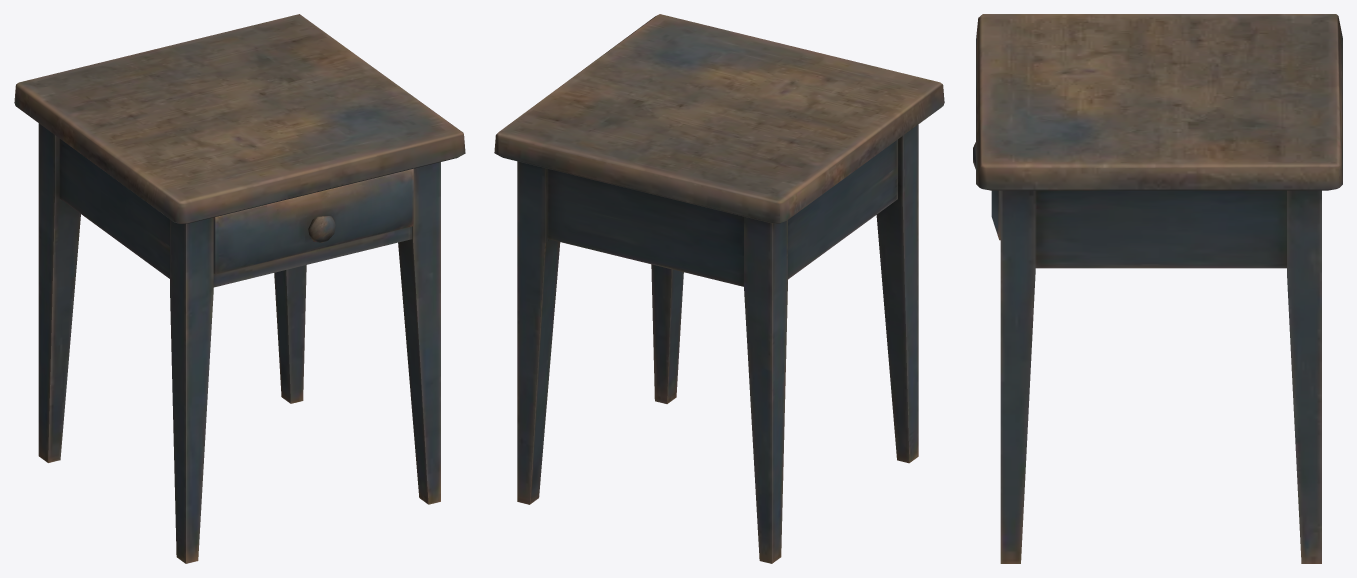
The model's file is painted_wooden_nightstand.glb.
3 views of the same model, side by side, from view 1: azimuth 30°, elevation 25°; view 2: azimuth 150°, elevation 25°; view 3: azimuth 270°, elevation 25° (orthographic). The views are drawn at different scales.
Visible parts, largest first — view 1: painted_wooden_nightstand; view 2: painted_wooden_nightstand; view 3: painted_wooden_nightstand.
Boxes of the visible parts, <box> form: painted_wooden_nightstand: <box>14,14,465,563</box>; painted_wooden_nightstand: <box>494,14,944,563</box>; painted_wooden_nightstand: <box>973,14,1342,563</box>.
Size of the model in its own units: 0.5046 by 0.6155 by 0.5074.
1 material, 1 textured.
